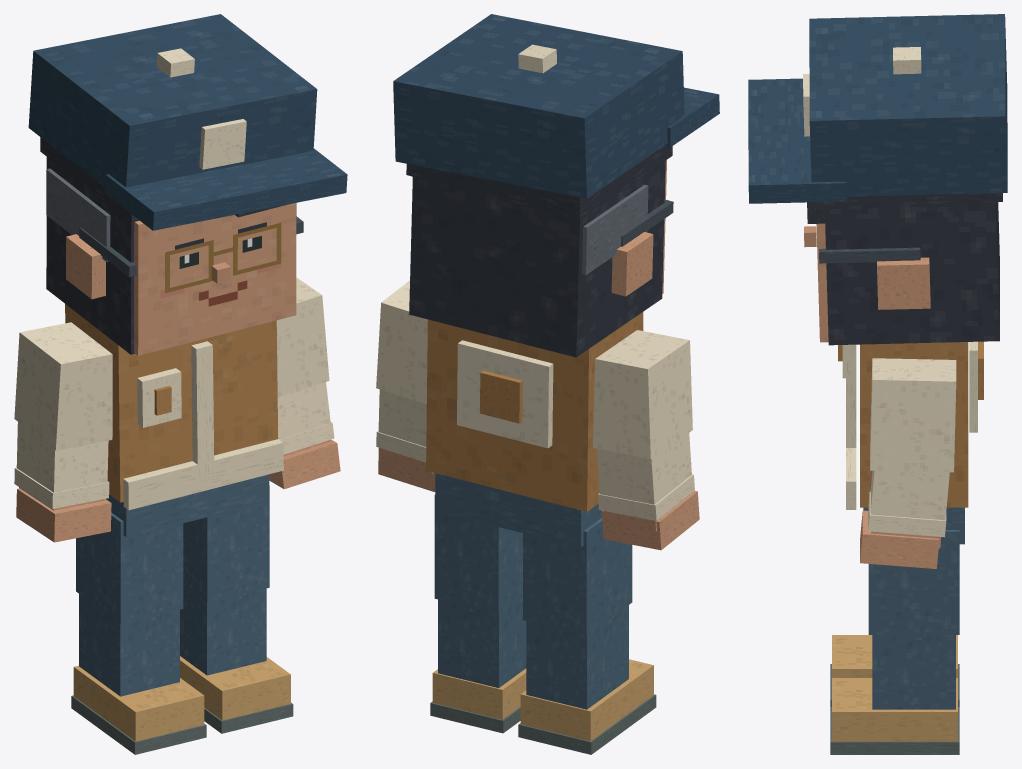
3 renders of one model, left to right at view 1: azimuth 30°, elevation 25°; view 2: azimuth 150°, elevation 25°; view 3: azimuth 270°, elevation 25°, orthographic.
Parts seen in each view (by area): view 1: accessory:cap, object 2, object 6, object 15, outfit:varsity, object 25, object 26, object 29, object 5, object 30, object 27, object 20 (+14 smaller); view 2: accessory:cap, object 5, object 2, object 15, object 25, outfit:varsity, object 26, object 29, hair:undercut, object 30, object 1, object 20 (+13 smaller); view 3: accessory:cap, object 5, object 20, object 29, object 30, object 2, object 31, object 23, outfit:varsity, object 8, object 22, hair:undercut (+6 smaller).
Part boxes in pixels (x1,y1,x2,y2): accessory:cap: [28, 14, 347, 230]; object 2: [65, 304, 278, 502]; object 6: [134, 203, 296, 355]; object 15: [14, 322, 112, 450]; outfit:varsity: [123, 341, 283, 510]; object 25: [76, 512, 183, 623]; object 26: [79, 594, 179, 696]; object 29: [183, 485, 269, 602]; object 5: [46, 157, 134, 354]; object 30: [180, 586, 266, 675]; object 27: [73, 665, 204, 741]; object 20: [276, 277, 329, 397]; accessory:cap: [393, 14, 719, 198]; object 5: [409, 160, 665, 357]; object 2: [426, 312, 643, 511]; object 15: [593, 330, 692, 458]; object 25: [523, 518, 632, 635]; outfit:varsity: [457, 340, 553, 448]; object 26: [526, 605, 628, 709]; object 29: [434, 495, 522, 613]; hair:undercut: [406, 146, 672, 274]; object 30: [438, 596, 526, 687]; object 1: [435, 473, 601, 546]; object 20: [376, 280, 427, 404]; accessory:cap: [748, 14, 1007, 203]; object 5: [824, 202, 999, 345]; object 20: [870, 358, 956, 472]; object 29: [868, 530, 959, 634]; object 30: [872, 635, 955, 709]; object 2: [860, 342, 968, 507]; object 31: [832, 678, 957, 741]; object 23: [870, 470, 949, 520]; outfit:varsity: [838, 341, 983, 509]; object 8: [877, 257, 930, 309]; object 22: [860, 510, 939, 568]; hair:undercut: [807, 193, 1002, 223].
Size of the model in its own units: 0.9752 by 2.15 by 0.7643.
Materials: 13 (13 with a texture image).
